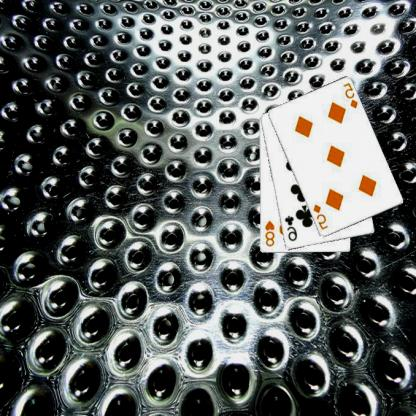5D: (342, 80, 361, 110), (312, 202, 331, 231)
8H: (264, 218, 277, 248)
9C: (284, 213, 300, 242)
